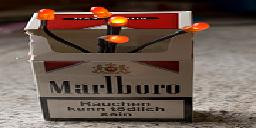LED: (90, 7, 129, 27), (187, 21, 213, 40), (36, 5, 59, 25), (104, 32, 130, 46)
